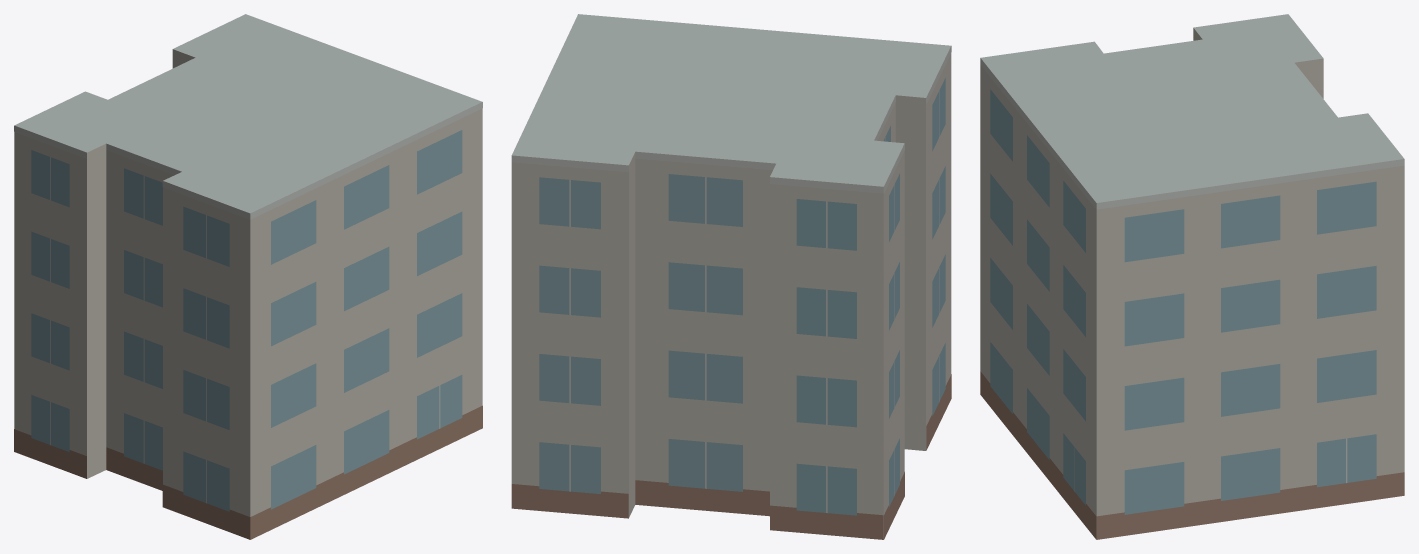
File: survey-upis-32534032.glb
3 renders of one model, left to right at view 1: azimuth 30°, elevation 25°; view 2: azimuth 150°, elevation 25°; view 3: azimuth 270°, elevation 25°, orthographic. The views are drawn at different scales.
Parts seen in each view (by area): view 1: survey-upis-32534032.tmp; view 2: survey-upis-32534032.tmp; view 3: survey-upis-32534032.tmp.
Boxes of the visible parts, <box> form: survey-upis-32534032.tmp: <box>14,14,482,539</box>; survey-upis-32534032.tmp: <box>511,14,951,539</box>; survey-upis-32534032.tmp: <box>980,14,1404,539</box>.
Bounding box in the file's own units: 15.13 × 12.56 × 14.35.
